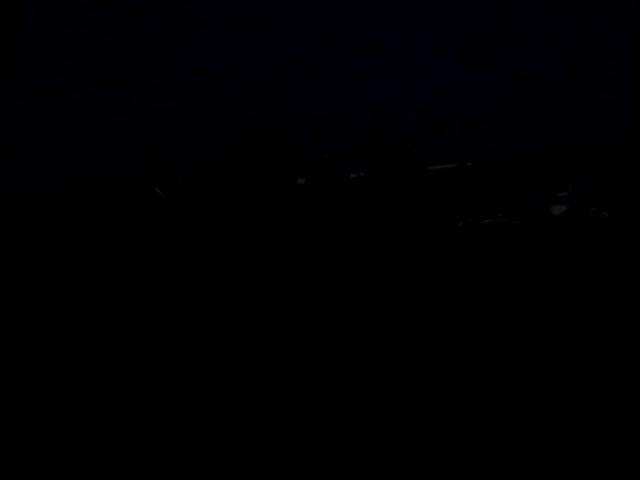iha: (51, 66, 636, 310)
